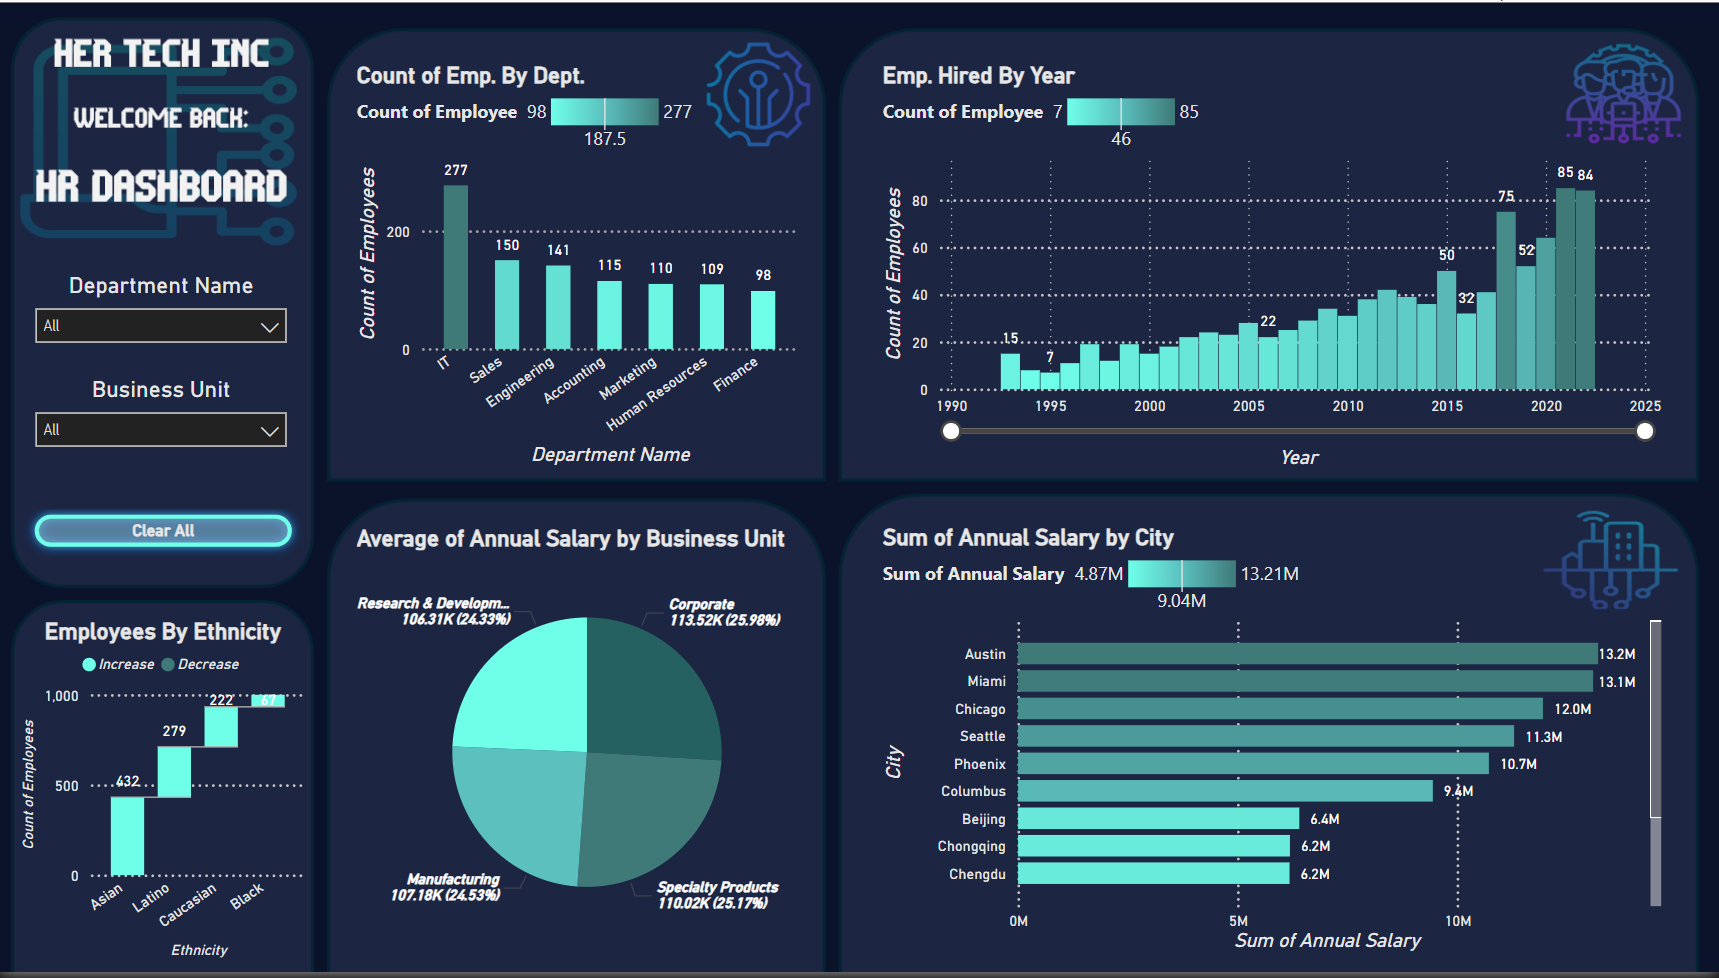

The page's visual inventory and layout, read from the dashboard file:
{"tool":"powerbi","page":{"name":"HR-Dashboard-P2","canvas":[1280,720],"ordinal":0},"visuals":[{"type":"waterfallChart","title":"Employees By Ethnicity","fields":{"Y":["CountNonNull(EmployeeSampleDataCSV.Employee ID)"],"Category":["EmployeeSampleDataCSV.Ethnicity"]},"box":[13.4,457.4,221.3,256.9],"z":1000},{"type":"pieChart","fields":{"Category":["EmployeeSampleDataCSV.Business Unit"],"Y":["Avg(EmployeeSampleDataCSV.Annual Salary)"]},"box":[262.8,383.1,351.9,323.7],"z":2000},{"type":"slicer","title":"Department Name","fields":{"Values":["DepartmentSampleDataCSV.Department_Name"]},"box":[20,200.4,206.7,55.6],"z":3000,"group":"g1"},{"type":"columnChart","title":"Emp. Hired By Year","fields":{"Category":["EmployeeSampleDataCSV.Hire Date.Variation.Date Hierarchy.Year"],"Y":["CountNonNull(EmployeeSampleDataCSV.Employee ID)"]},"box":[653.4,44.5,588,305.9],"z":3000},{"type":"columnChart","title":"Count of Emp. By Dept.","fields":{"Y":["CountNonNull(EmployeeSampleDataCSV.Employee ID)"],"Category":["DepartmentSampleDataCSV.Department_Name"]},"box":[262.8,44.5,337.1,304.4],"z":4000},{"type":"slicer","title":"Business Unit","fields":{"Values":["EmployeeSampleDataCSV.Business Unit"]},"box":[20,277.3,206.7,55.6],"z":4000,"group":"g1"},{"type":"group","id":"g1","title":"Group 1","box":[20,200.4,206.7,132.5],"z":4001},{"type":"clusteredBarChart","fields":{"Y":["Sum(EmployeeSampleDataCSV.Annual Salary)"],"Category":["EmployeeSampleDataCSV.City"]},"box":[653.4,387.6,588,322.2],"z":5000},{"type":"actionButton","box":[20.1,372.2,206.8,39.7],"z":9000}]}

Visuals, with their boxes in screenshot pixels (x1, y1, x2, y2), scaled from the page's 1280x720 canvas onto the 1719x978 screenshot:
"Employees By Ethnicity" waterfallChart: {"left": 18, "top": 621, "right": 315, "bottom": 970}
pieChart - EmployeeSampleDataCSV.Business Unit x Avg(EmployeeSampleDataCSV.Annual Salary): {"left": 353, "top": 520, "right": 826, "bottom": 960}
"Department Name" slicer: {"left": 27, "top": 272, "right": 304, "bottom": 348}
"Emp. Hired By Year" columnChart: {"left": 877, "top": 60, "right": 1667, "bottom": 476}
"Count of Emp. By Dept." columnChart: {"left": 353, "top": 60, "right": 806, "bottom": 474}
"Business Unit" slicer: {"left": 27, "top": 377, "right": 304, "bottom": 452}
"Group 1" group: {"left": 27, "top": 272, "right": 304, "bottom": 452}
clusteredBarChart - Sum(EmployeeSampleDataCSV.Annual Salary) x EmployeeSampleDataCSV.City: {"left": 877, "top": 526, "right": 1667, "bottom": 964}
actionButton: {"left": 27, "top": 506, "right": 305, "bottom": 559}
